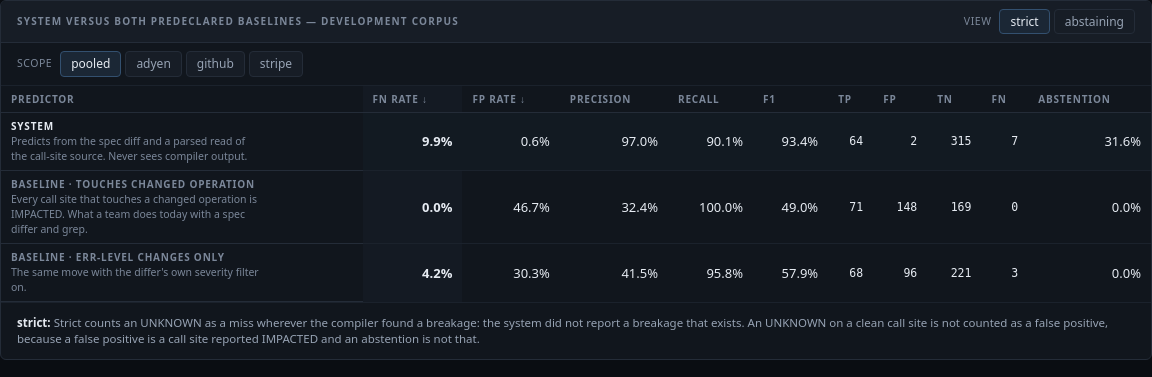
Test case: MetricsComparison › explains what each view does with an UNKNOWN, in both views
expect the element with test id "view-note" shows "counts an UNKNOWN as a miss": met, box [17, 315, 1108, 346]
Click the button "abstaining". click: (1094, 22)
box: [1054, 9, 1135, 34]
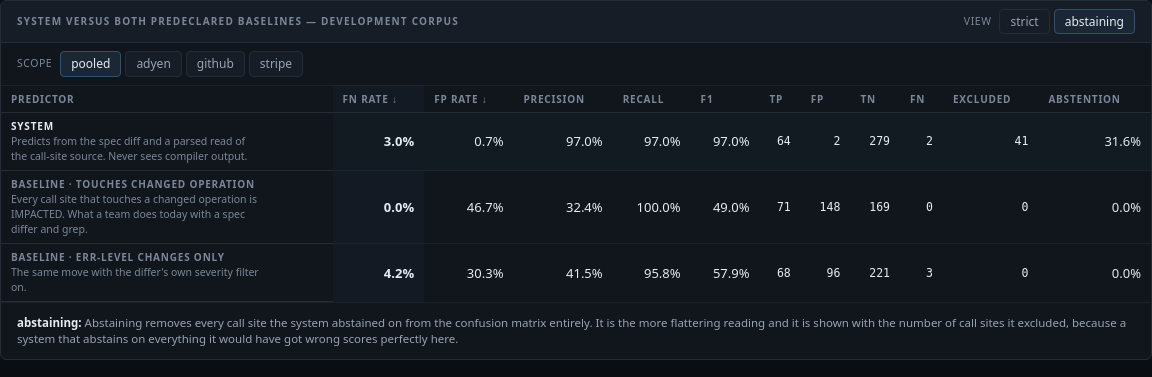
expect the element with test id "view-note" shows "removes every call site the system abstained on": met, box [17, 315, 1126, 346]
